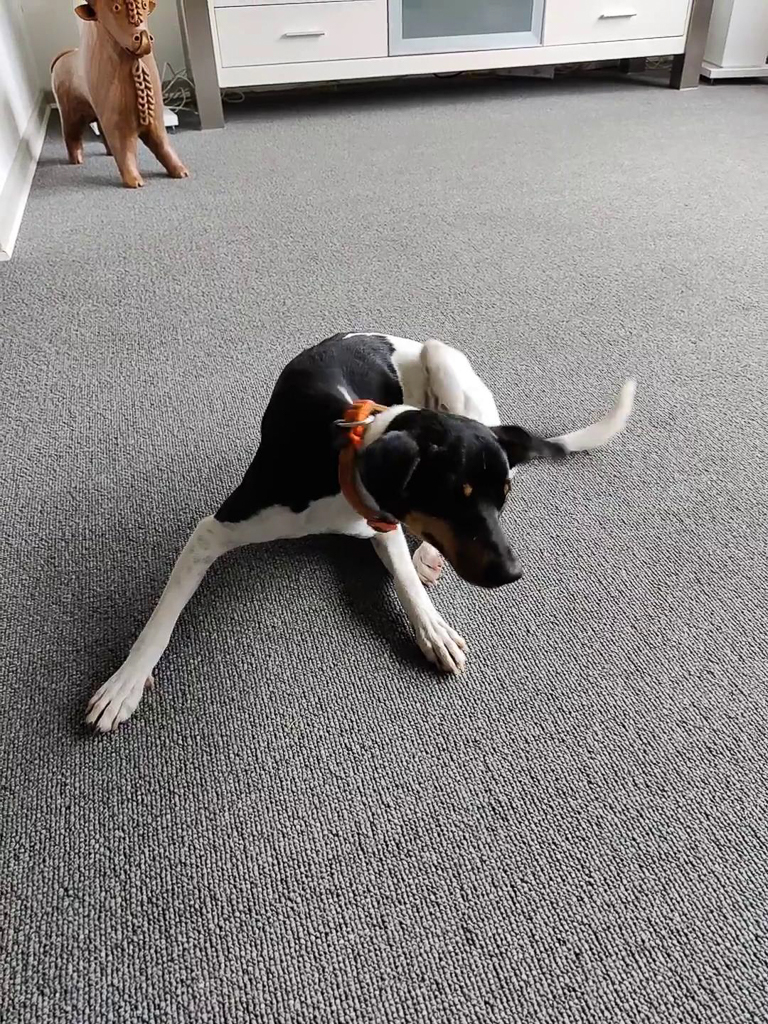Cattle: (42, 0, 202, 195)
Dog: (61, 315, 656, 761)
